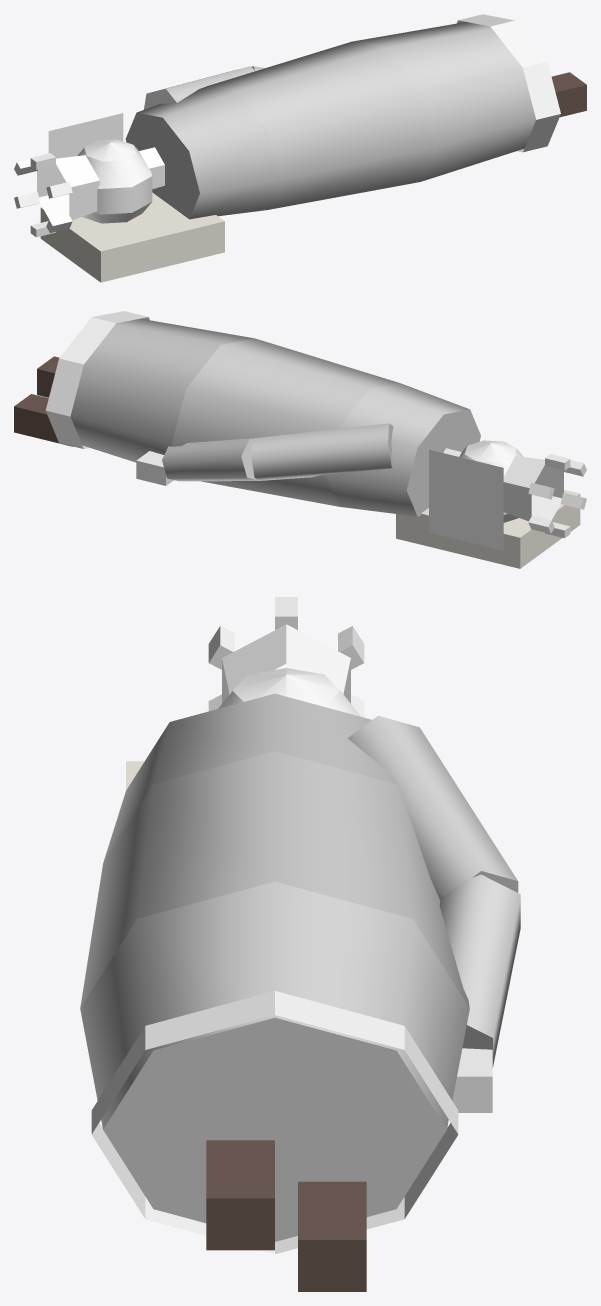
File: king_sleeping.glb
The picture shows the model from 3 angles, top to bottom: view 1: azimuth 30°, elevation 25°; view 2: azimuth 150°, elevation 25°; view 3: azimuth 270°, elevation 25°; orthographic projection. The views are drawn at different scales.
Visible parts, largest first — view 1: King; view 2: King; view 3: King.
Part boxes in pixels (x1,y1,x2,y2): King: (14,14,586,282); King: (14,311,586,568); King: (80,597,520,1291).
Size of the model in its own units: 2.15 by 0.4948 by 0.7689.
